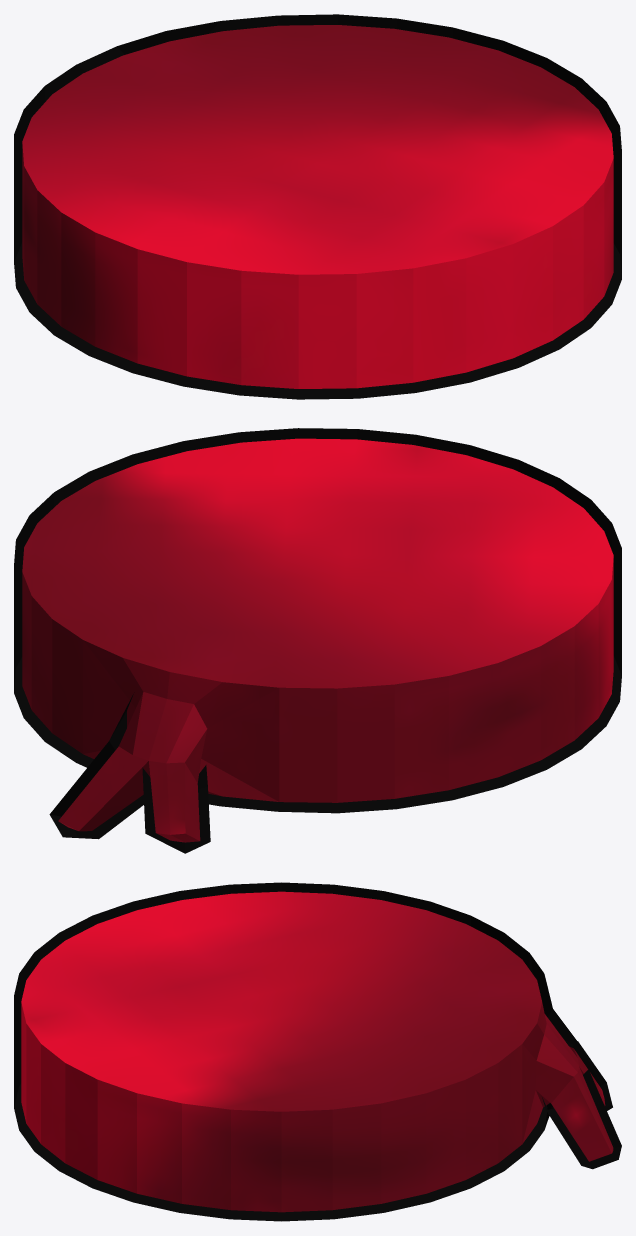
3 views of the same model, one above another, from view 1: azimuth 30°, elevation 25°; view 2: azimuth 150°, elevation 25°; view 3: azimuth 270°, elevation 25° (orthographic). The views are drawn at different scales.
Parts seen in each view (by area): view 1: 圆环; view 2: 圆环; view 3: 圆环.
Part boxes in pixels (x1,y1,x2,y2): 圆环: (14, 14, 621, 399); 圆环: (14, 428, 621, 853); 圆环: (14, 882, 621, 1221).
Bounding box in the file's own units: 0.5398 × 0.1637 × 0.6128.
